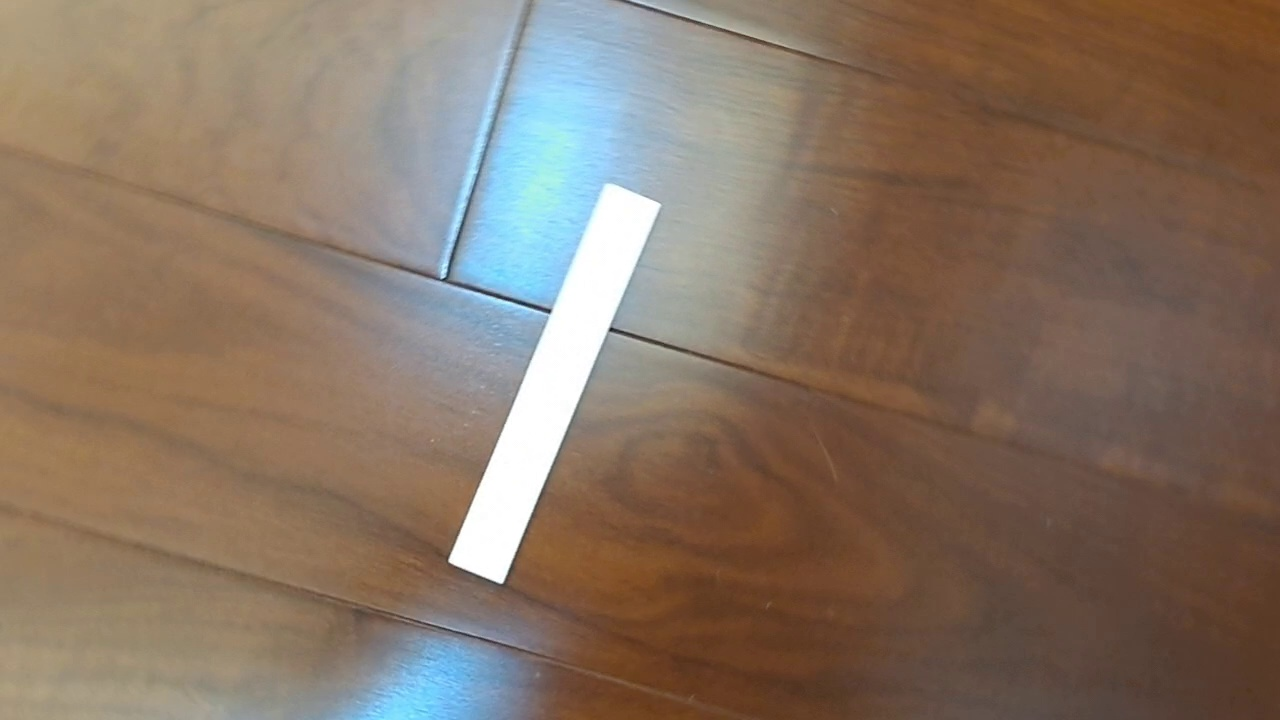ruler: (446, 182, 662, 586)
